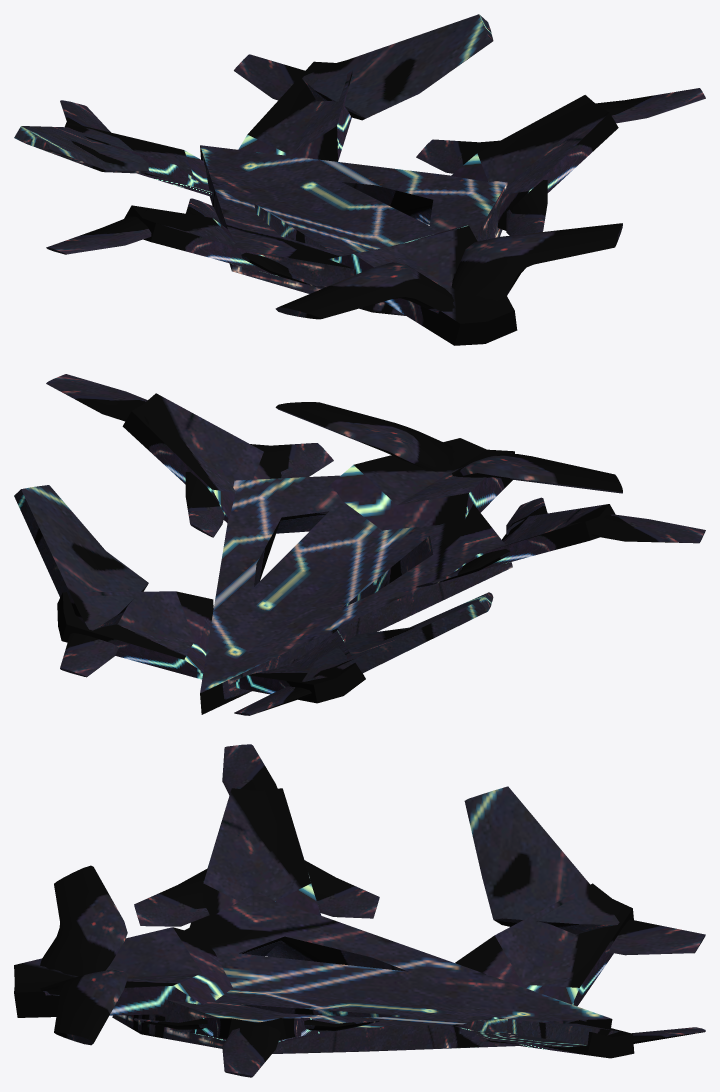
The model's file is Kodaving.fbx.
3 views of the same model, one above another, from view 1: azimuth 30°, elevation 25°; view 2: azimuth 150°, elevation 25°; view 3: azimuth 270°, elevation 25° (orthographic). The views are drawn at different scales.
Visible parts, largest first — view 1: 00_Core, 02_FrontRight, 04_MidRight, 06_RearRight, 03_MidLeft, 05_RearLeft, 01_FrontLeft; view 2: 00_Core, 02_FrontRight, 04_MidRight, 06_RearRight, 03_MidLeft, 01_FrontLeft, 05_RearLeft; view 3: 00_Core, 01_FrontLeft, 03_MidLeft, 05_RearLeft, 06_RearRight, 04_MidRight, 02_FrontRight.
Part boxes in pixels (left/top/right/bottom): 00_Core: left=200, top=145, right=506, bottom=270; 02_FrontRight: left=234, top=14, right=493, bottom=161; 04_MidRight: left=416, top=88, right=705, bottom=241; 06_RearRight: left=380, top=223, right=622, bottom=343; 03_MidLeft: left=46, top=198, right=372, bottom=312; 05_RearLeft: left=275, top=245, right=486, bottom=345; 01_FrontLeft: left=14, top=100, right=213, bottom=196; 00_Core: left=200, top=481, right=512, bottom=714; 02_FrontRight: left=14, top=485, right=213, bottom=679; 04_MidRight: left=46, top=374, right=341, bottom=537; 06_RearRight: left=275, top=402, right=486, bottom=532; 03_MidLeft: left=416, top=497, right=705, bottom=587; 01_FrontLeft: left=234, top=592, right=493, bottom=715; 05_RearLeft: left=380, top=449, right=622, bottom=535; 00_Core: left=238, top=893, right=612, bottom=1053; 01_FrontLeft: left=455, top=786, right=705, bottom=1006; 03_MidLeft: left=134, top=744, right=379, bottom=956; 05_RearLeft: left=14, top=865, right=238, bottom=988; 06_RearRight: left=14, top=969, right=238, bottom=1045; 04_MidRight: left=134, top=999, right=379, bottom=1077; 02_FrontRight: left=455, top=1017, right=705, bottom=1058.
Bounding box in the file's own units: 13158 × 2649 × 11599.
Materials: 1 (1 with a texture image).
